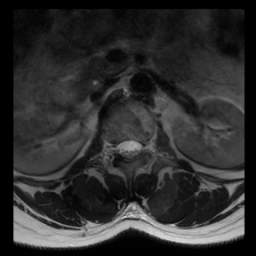CCS_normal: (124, 132, 132, 164)
LFS_normal: (141, 133, 150, 160)
LLS_normal: (132, 133, 141, 161)
RFS_normal: (108, 133, 116, 161)
RLS_normal: (116, 133, 124, 162)
